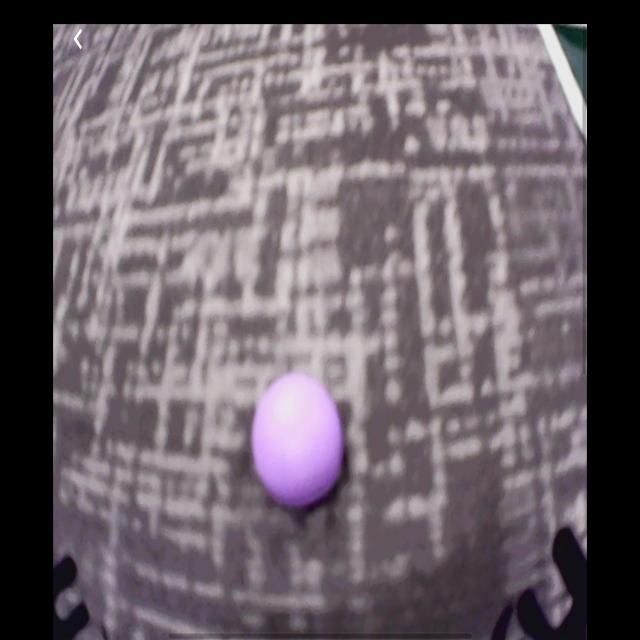ball: (249, 375, 346, 511)
